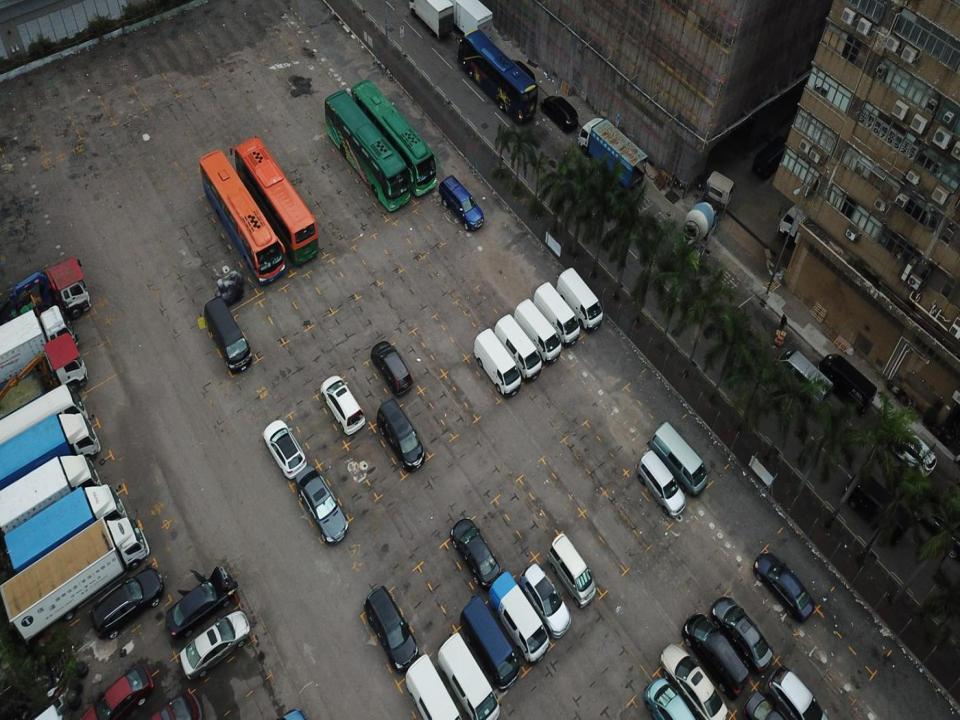bus: (196, 144, 285, 286), (232, 136, 319, 263), (323, 86, 410, 211), (352, 73, 437, 197), (457, 29, 541, 124), (0, 386, 87, 450)
car: (90, 560, 164, 645), (680, 606, 749, 693), (658, 643, 730, 719), (164, 569, 237, 643), (178, 609, 252, 681), (710, 592, 776, 672), (362, 582, 418, 668), (292, 462, 347, 549), (754, 549, 815, 619), (75, 667, 154, 719), (376, 390, 425, 471), (448, 516, 501, 590), (766, 664, 832, 719), (886, 409, 938, 478), (438, 171, 486, 232), (368, 338, 414, 398), (262, 417, 306, 478), (639, 674, 698, 719), (322, 375, 364, 435), (134, 691, 206, 719), (541, 90, 580, 134), (744, 687, 792, 719)
truck: (0, 511, 152, 642), (1, 484, 124, 568), (0, 252, 92, 346), (0, 452, 97, 534), (0, 412, 103, 489), (0, 327, 88, 417), (0, 299, 66, 391), (577, 112, 650, 194), (680, 164, 739, 255), (438, 0, 494, 47), (403, 0, 455, 43)
van: (485, 572, 550, 667), (458, 593, 519, 690), (439, 626, 498, 719), (649, 418, 707, 494), (818, 344, 878, 413), (203, 295, 254, 374), (774, 344, 835, 410), (550, 526, 599, 608), (404, 652, 461, 719), (512, 292, 562, 368), (555, 260, 605, 335), (470, 324, 520, 397), (636, 449, 687, 517), (495, 314, 545, 383), (534, 282, 582, 348)
